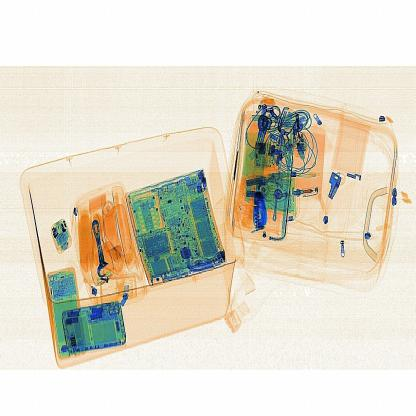scissors: (247, 184, 280, 232)
